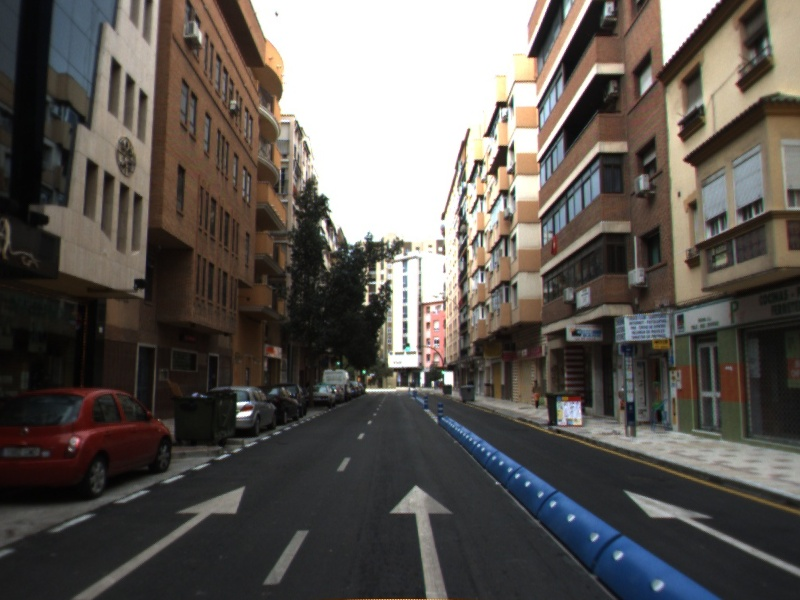STRAIGHT: (68, 484, 247, 600), (621, 488, 800, 578), (387, 483, 455, 600)
